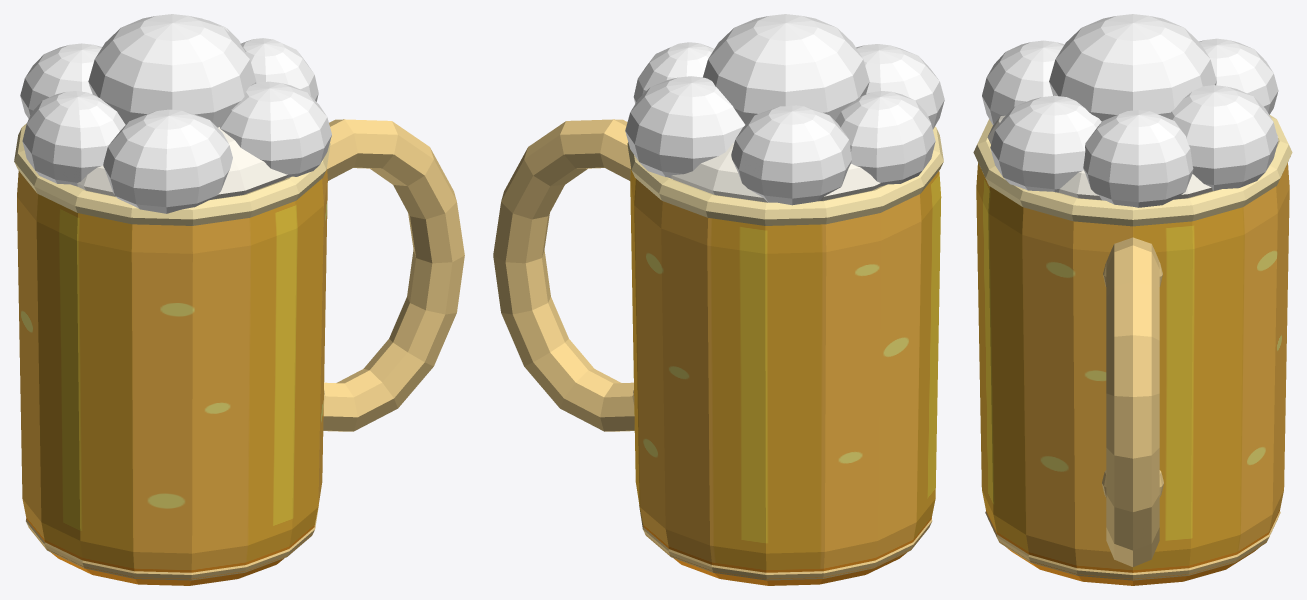
Rendered from asset.glb.
The picture shows the model from 3 angles, left to right: view 1: azimuth 30°, elevation 25°; view 2: azimuth 150°, elevation 25°; view 3: azimuth 270°, elevation 25°; orthographic projection.
Parts seen in each view (by area): view 1: Lager filled mug, Chunky loop handle, Foam crown, Foam puff front, Foam puff front right, Thick mug lip, Foam puff left, Foam puff back left, Foam head, Foam puff right, Heavy glass base; view 2: Lager filled mug, Chunky loop handle, Foam crown, Foam puff back left, Foam puff back right, Thick mug lip, Foam puff left, Foam puff front, Foam head, Heavy glass base, Foam puff right; view 3: Lager filled mug, Chunky loop handle, Foam crown, Foam puff right, Foam puff back right, Foam puff front right, Thick mug lip, Foam puff front, Foam puff back left, Heavy glass base, Foam head.
Part boxes in pixels (box(x1,y1,x2,y2)): Lager filled mug: box(17, 169, 327, 585); Chunky loop handle: box(323, 119, 464, 431); Foam crown: box(88, 14, 256, 127); Foam puff front: box(103, 109, 232, 213); Foam puff front right: box(220, 81, 331, 178); Thick mug lip: box(14, 123, 330, 225); Foam puff left: box(22, 91, 125, 186); Foam puff back left: box(20, 43, 101, 118); Foam head: box(77, 127, 287, 198); Foam puff right: box(240, 38, 318, 101); Heavy glass base: box(26, 505, 318, 580); Lager filled mug: box(630, 168, 941, 585); Chunky loop handle: box(493, 119, 634, 431); Foam crown: box(703, 14, 869, 124); Foam puff back left: box(731, 105, 851, 205); Foam puff back right: box(625, 76, 745, 178); Thick mug lip: box(627, 126, 943, 225); Foam puff left: box(835, 91, 935, 186); Foam puff front: box(856, 44, 944, 129); Foam head: box(671, 142, 880, 202); Heavy glass base: box(639, 505, 932, 580); Foam puff right: box(633, 42, 714, 103); Lager filled mug: box(976, 163, 1289, 585); Chunky loop handle: box(1106, 237, 1159, 566); Foam crown: box(1049, 14, 1216, 121); Foam puff right: box(1083, 110, 1193, 207); Foam puff back right: box(1166, 85, 1278, 190); Foam puff front right: box(990, 95, 1101, 192); Thick mug lip: box(973, 115, 1292, 226); Foam puff front: box(982, 40, 1064, 124); Foam puff back left: box(1199, 38, 1278, 114); Heavy glass base: box(985, 511, 1280, 580); Foam head: box(987, 115, 1278, 200).
Bounding box in the file's own units: 0.1775 × 0.2 × 0.114.
5 materials, 1 textured.
